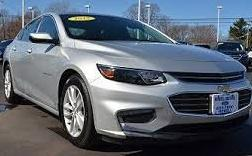Cars: (5, 15, 252, 148)
